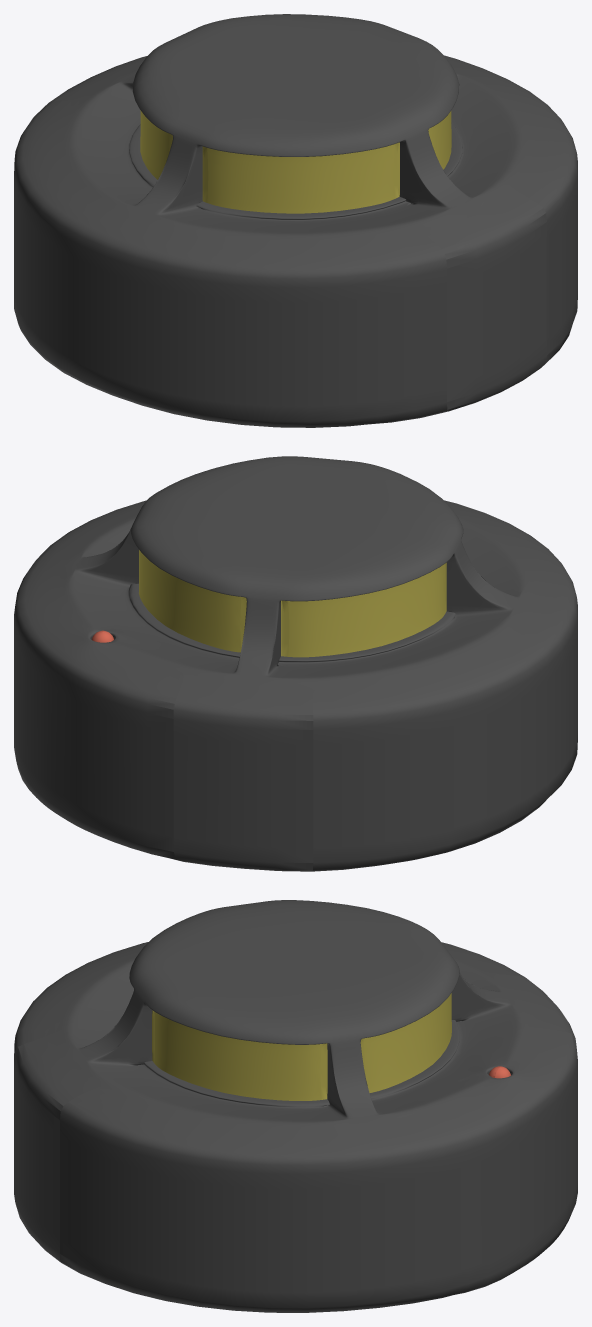
File: FireWork.fbx
3 views of the same model, one above another, from view 1: azimuth 30°, elevation 25°; view 2: azimuth 150°, elevation 25°; view 3: azimuth 270°, elevation 25° (orthographic).
Visible parts, largest first — view 1: Cylinder00, Object073; view 2: Cylinder00, Object073; view 3: Cylinder00, Object073.
Boxes of the visible parts, x1,y1,x2,y2 form: Cylinder00: (14,14,577,427); Object073: (140,110,451,213); Cylinder00: (14,456,577,871); Object073: (139,550,446,657); Cylinder00: (14,900,577,1312); Object073: (152,993,451,1100).
Bounding box in the file's own units: 2465 × 1170 × 2465.
